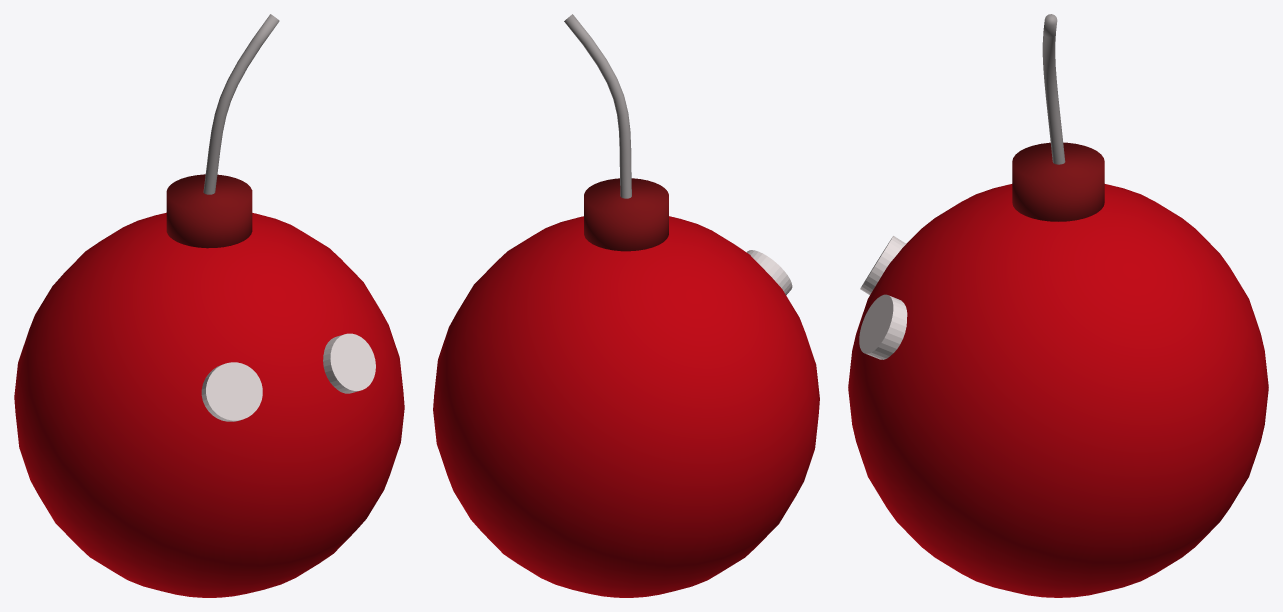
The model's file is Bomb.fbx.
3 renders of one model, left to right at view 1: azimuth 30°, elevation 25°; view 2: azimuth 150°, elevation 25°; view 3: azimuth 270°, elevation 25°, orthographic. The views are drawn at different scales.
Parts seen in each view (by area): view 1: Bomb; view 2: Bomb; view 3: Bomb.
Part boxes in pixels (<box>): Bomb: <box>14,14,404,597</box>; Bomb: <box>433,14,819,597</box>; Bomb: <box>848,14,1268,597</box>.
Size of the model in its own units: 200 by 312 by 200.
